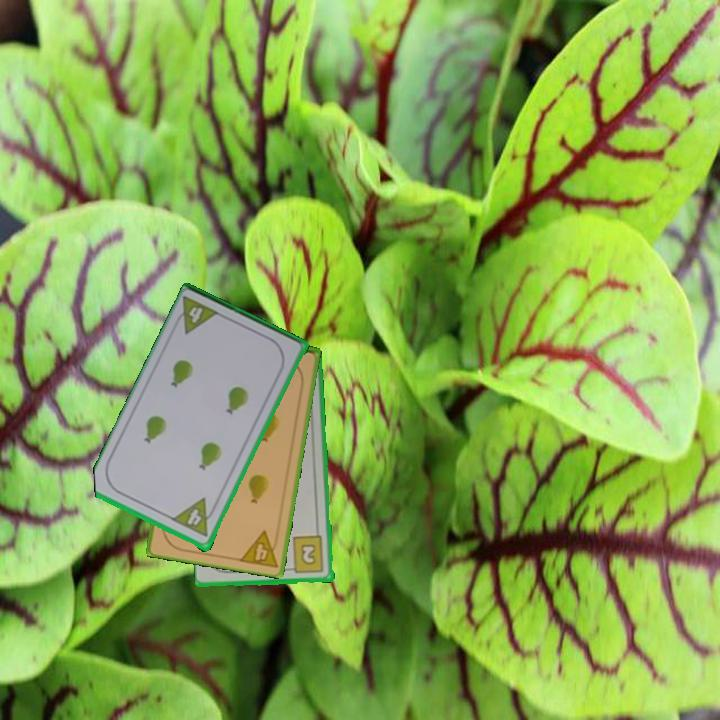2b: (285, 533, 327, 576)
4p: (236, 527, 282, 570), (170, 495, 206, 531), (185, 303, 206, 327)
